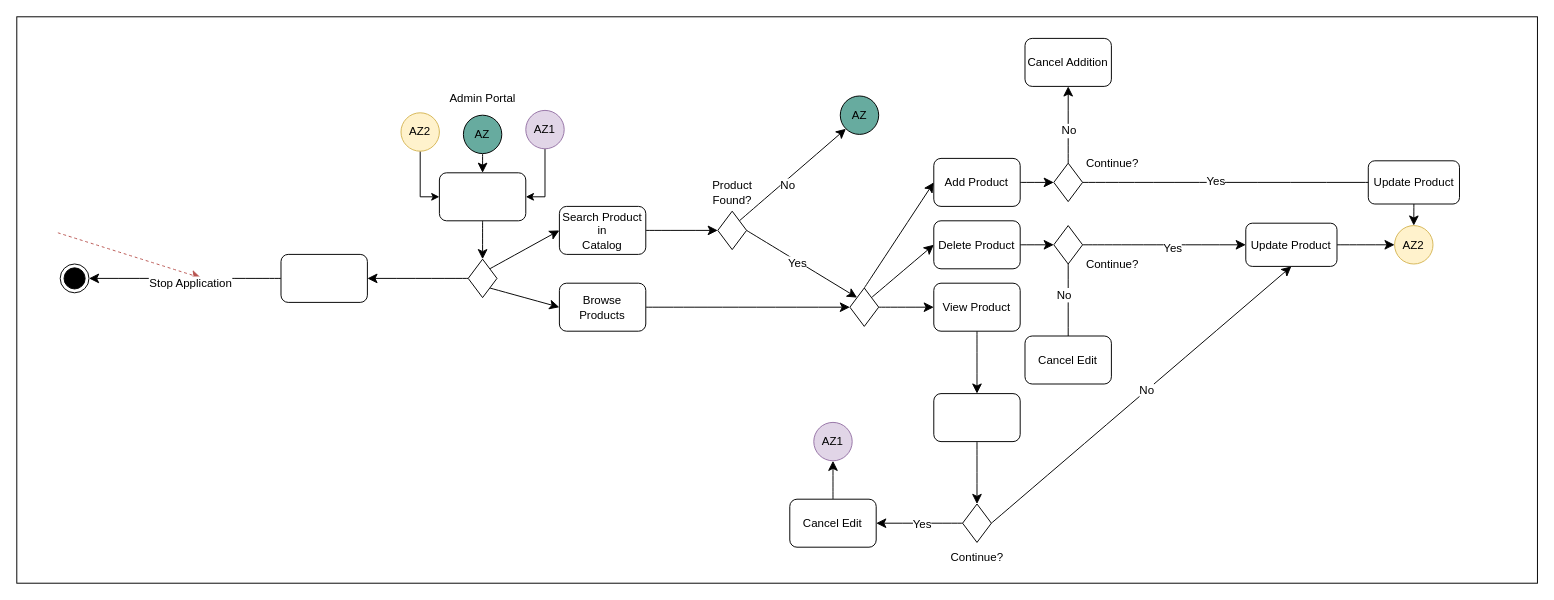
The diagram is 1554 pixels wide and 600 high, and some of its shapes have lost their labels. The box of each missing label's shape, as (x1, y1, x2, y2) in pixels:
Admin Catalog Page: (438, 172, 526, 221)
Edit Product: (933, 393, 1020, 442)
Log out: (280, 253, 367, 302)
